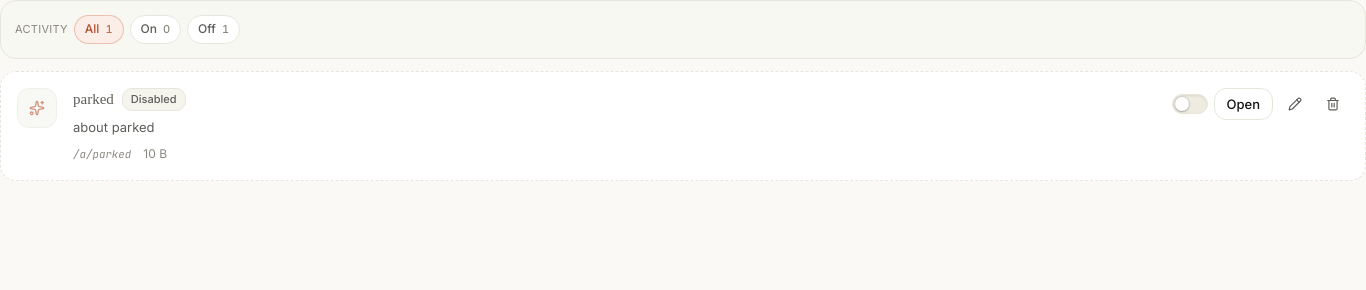
Test: SkillsTab › says so when the chosen state has nothing behind it
Click the button "On 0" at (155,29), box [130,15,181,44]
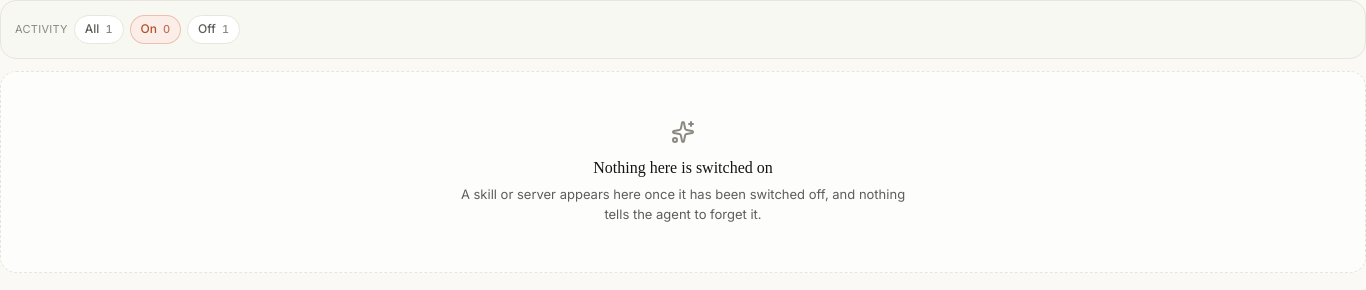
Now the text "Nothing here is switched on" is shown, box [593,159,773,176]
Now the button "parked" is gone
